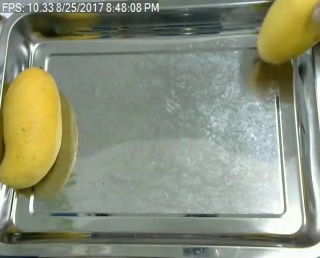Mango: (0, 63, 66, 193), (247, 0, 320, 66)
